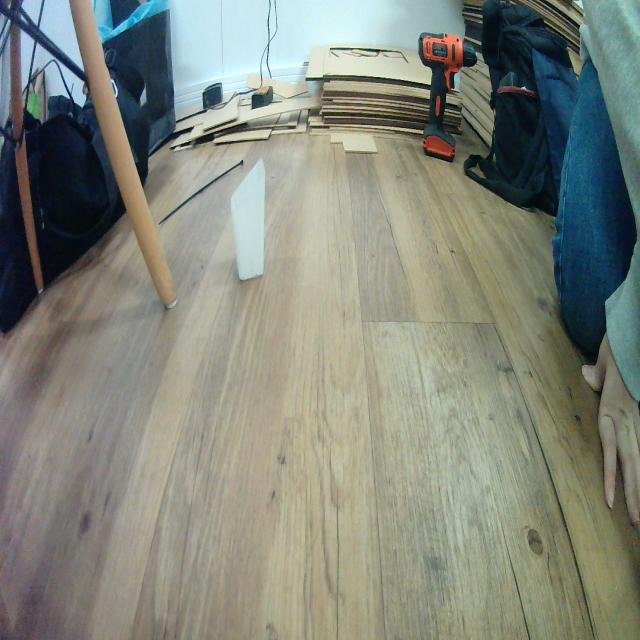erva_daninha: (230, 157, 266, 282)
